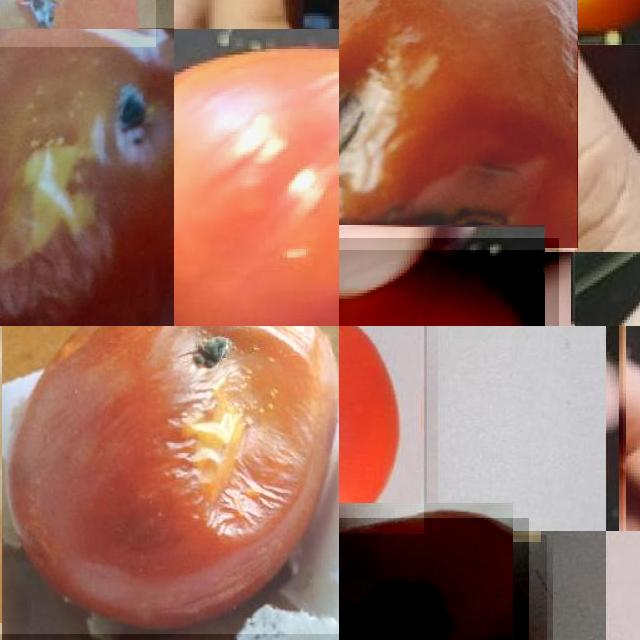Fresh Tomato: (339, 326, 424, 533)
Rotten Tomato: (0, 326, 339, 633), (339, 0, 576, 250), (0, 29, 174, 326), (174, 29, 339, 326), (339, 518, 529, 640), (0, 0, 156, 47)
